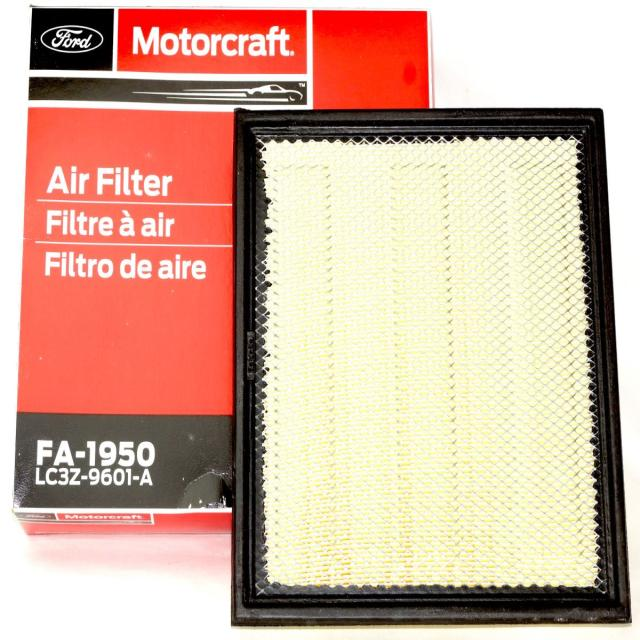air_filter: (230, 100, 633, 628)
